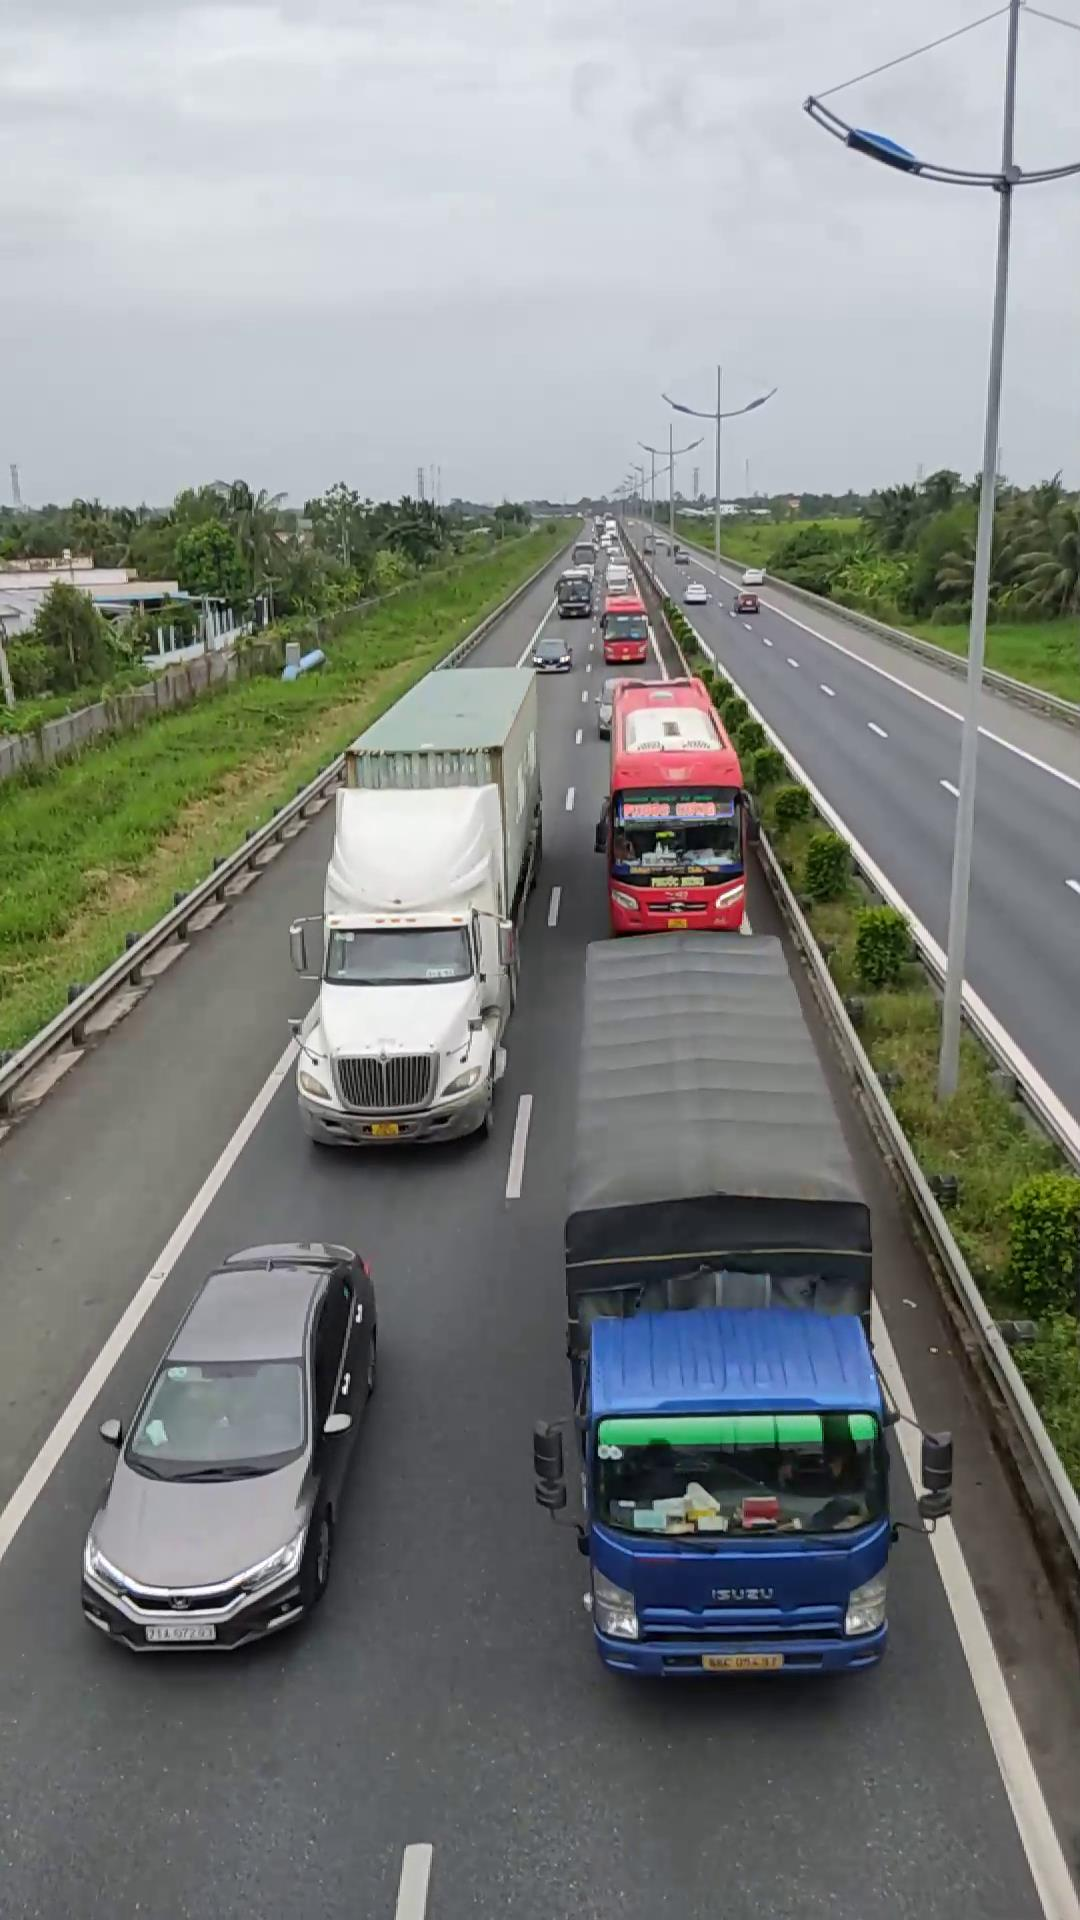bus: (596, 671, 754, 928)
car: (71, 1242, 371, 1654)
container: (295, 655, 545, 1153)
truck: (545, 945, 907, 1683)
